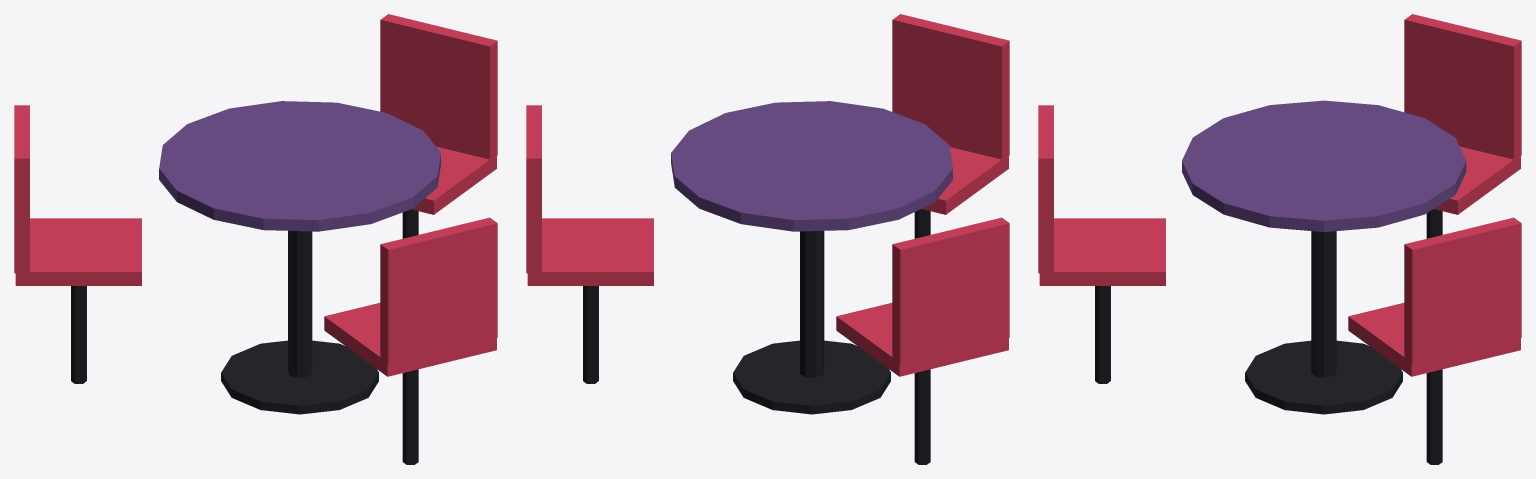
File: karaoke_table.glb
The picture shows the model from 3 angles, left to right: view 1: azimuth 30°, elevation 25°; view 2: azimuth 150°, elevation 25°; view 3: azimuth 270°, elevation 25°; orthographic projection.
Parts seen in each view (by area): view 1: chair_back_kchair_seat, top_ktable_top, chair_seat_kchair_seat, foot_ktable_dark, leg_ktable_dark, chair_leg_ktable_dark; view 2: chair_back_kchair_seat, top_ktable_top, chair_seat_kchair_seat, foot_ktable_dark, leg_ktable_dark, chair_leg_ktable_dark; view 3: chair_back_kchair_seat, top_ktable_top, chair_seat_kchair_seat, foot_ktable_dark, leg_ktable_dark, chair_leg_ktable_dark.
Part boxes in pixels (x1=…): chair_back_kchair_seat: x1=14, y1=14, x2=497, y2=364; top_ktable_top: x1=159, y1=101, x2=440, y2=231; chair_seat_kchair_seat: x1=15, y1=146, x2=496, y2=376; foot_ktable_dark: x1=221, y1=340, x2=378, y2=414; leg_ktable_dark: x1=288, y1=231, x2=312, y2=377; chair_leg_ktable_dark: x1=71, y1=209, x2=418, y2=464; chair_back_kchair_seat: x1=526, y1=14, x2=1009, y2=364; top_ktable_top: x1=671, y1=101, x2=952, y2=231; chair_seat_kchair_seat: x1=527, y1=147, x2=1008, y2=376; foot_ktable_dark: x1=733, y1=340, x2=890, y2=414; leg_ktable_dark: x1=800, y1=231, x2=824, y2=377; chair_leg_ktable_dark: x1=583, y1=209, x2=930, y2=464; chair_back_kchair_seat: x1=1038, y1=14, x2=1521, y2=364; top_ktable_top: x1=1182, y1=100, x2=1466, y2=231; chair_seat_kchair_seat: x1=1039, y1=146, x2=1520, y2=376; foot_ktable_dark: x1=1245, y1=340, x2=1402, y2=414; leg_ktable_dark: x1=1311, y1=231, x2=1336, y2=377; chair_leg_ktable_dark: x1=1095, y1=209, x2=1442, y2=464.
Size of the model in its own units: 1.77 by 0.87 by 1.53.
